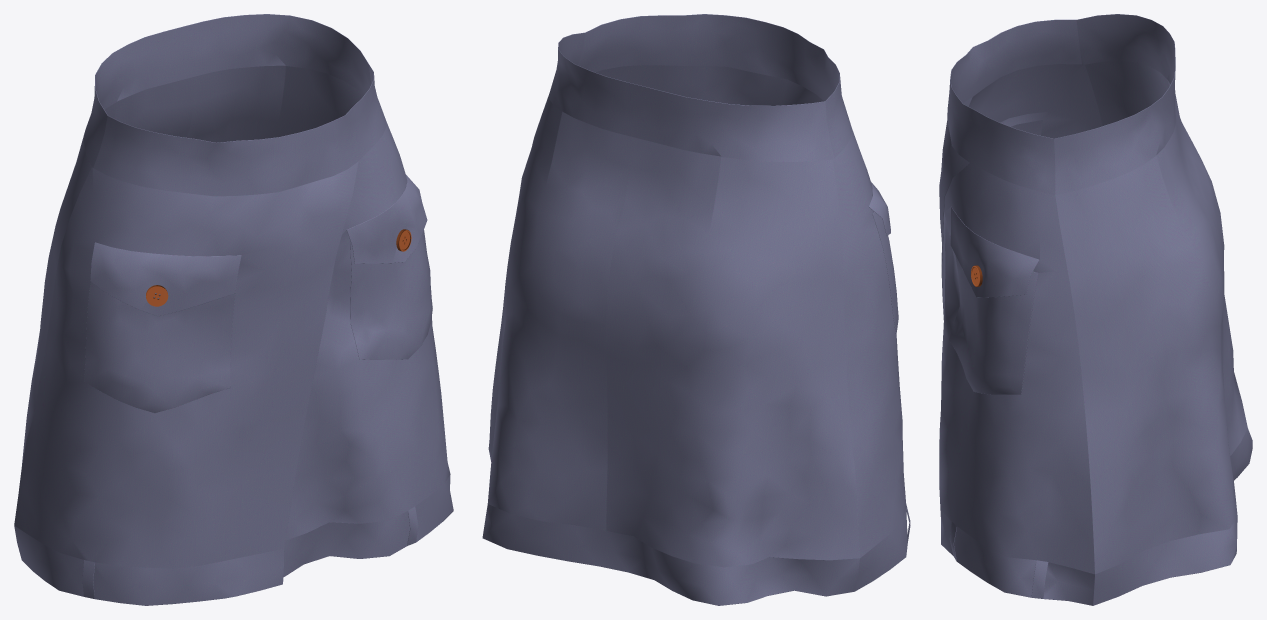
3 views of the same model, side by side, from view 1: azimuth 30°, elevation 25°; view 2: azimuth 150°, elevation 25°; view 3: azimuth 270°, elevation 25° (orthographic). The views are drawn at different scales.
Visible parts, largest first — view 1: Pattern2D_17475, Pattern2D_17476, Pattern2D_300162, Pattern2D_300151, Pattern2D_408232, Pattern2D_263568, Pattern2D_57088, Pattern2D_408230, Pattern2D_408235, Pattern2D_408229, Pattern2D_408224, Pattern2D_408234; view 2: Pattern2D_408229, Pattern2D_263568, Pattern2D_17475, Pattern2D_300151, Pattern2D_300162, Pattern2D_408225, Pattern2D_17476, Pattern2D_57088, Pattern2D_408232; view 3: Pattern2D_263568, Pattern2D_17476, Pattern2D_300162, Pattern2D_300151, Pattern2D_17475, Pattern2D_408229, Pattern2D_408230, Pattern2D_408225, Pattern2D_408224, Pattern2D_408234, Pattern2D_408227.
Part boxes in pixels (bbox=[...]): Pattern2D_17475: bbox=[14, 161, 358, 568]; Pattern2D_17476: bbox=[285, 121, 450, 540]; Pattern2D_300162: bbox=[93, 65, 386, 196]; Pattern2D_300151: bbox=[83, 14, 371, 167]; Pattern2D_408232: bbox=[84, 282, 235, 412]; Pattern2D_263568: bbox=[187, 65, 363, 142]; Pattern2D_57088: bbox=[14, 526, 284, 605]; Pattern2D_408230: bbox=[350, 230, 432, 359]; Pattern2D_408235: bbox=[90, 242, 241, 316]; Pattern2D_408229: bbox=[22, 76, 195, 465]; Pattern2D_408224: bbox=[283, 474, 453, 577]; Pattern2D_408234: bbox=[347, 175, 427, 263]; Pattern2D_408229: bbox=[605, 137, 859, 567]; Pattern2D_263568: bbox=[487, 94, 633, 530]; Pattern2D_17475: bbox=[832, 128, 906, 557]; Pattern2D_300151: bbox=[549, 32, 834, 161]; Pattern2D_300162: bbox=[578, 14, 851, 157]; Pattern2D_408225: bbox=[482, 449, 859, 605]; Pattern2D_17476: bbox=[595, 65, 823, 105]; Pattern2D_57088: bbox=[855, 508, 907, 591]; Pattern2D_408232: bbox=[872, 212, 898, 334]; Pattern2D_263568: bbox=[1055, 118, 1237, 574]; Pattern2D_17476: bbox=[939, 97, 1094, 574]; Pattern2D_300162: bbox=[947, 19, 1081, 194]; Pattern2D_300151: bbox=[1054, 14, 1175, 194]; Pattern2D_17475: bbox=[939, 64, 1102, 319]; Pattern2D_408229: bbox=[1085, 61, 1247, 455]; Pattern2D_408230: bbox=[949, 256, 1038, 394]; Pattern2D_408225: bbox=[1093, 428, 1252, 605]; Pattern2D_408224: bbox=[940, 510, 1094, 605]; Pattern2D_408234: bbox=[950, 207, 1039, 297]; Pattern2D_408227: bbox=[1031, 560, 1048, 598].
Size of the model in its own units: 40.39 by 46.93 by 29.21.
